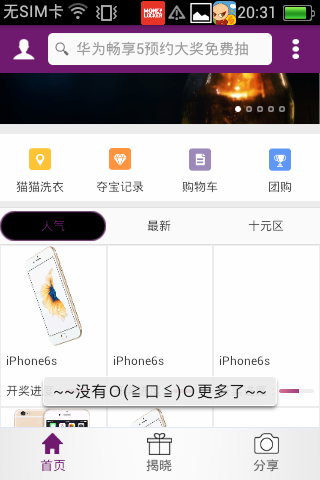alert: (38, 375, 286, 412)
imgbutton: (12, 34, 38, 63), (286, 31, 304, 65)
imgview: (11, 250, 94, 351)
nav: (8, 139, 310, 199), (1, 426, 313, 480), (128, 213, 315, 240)
textview: (46, 29, 278, 69)
